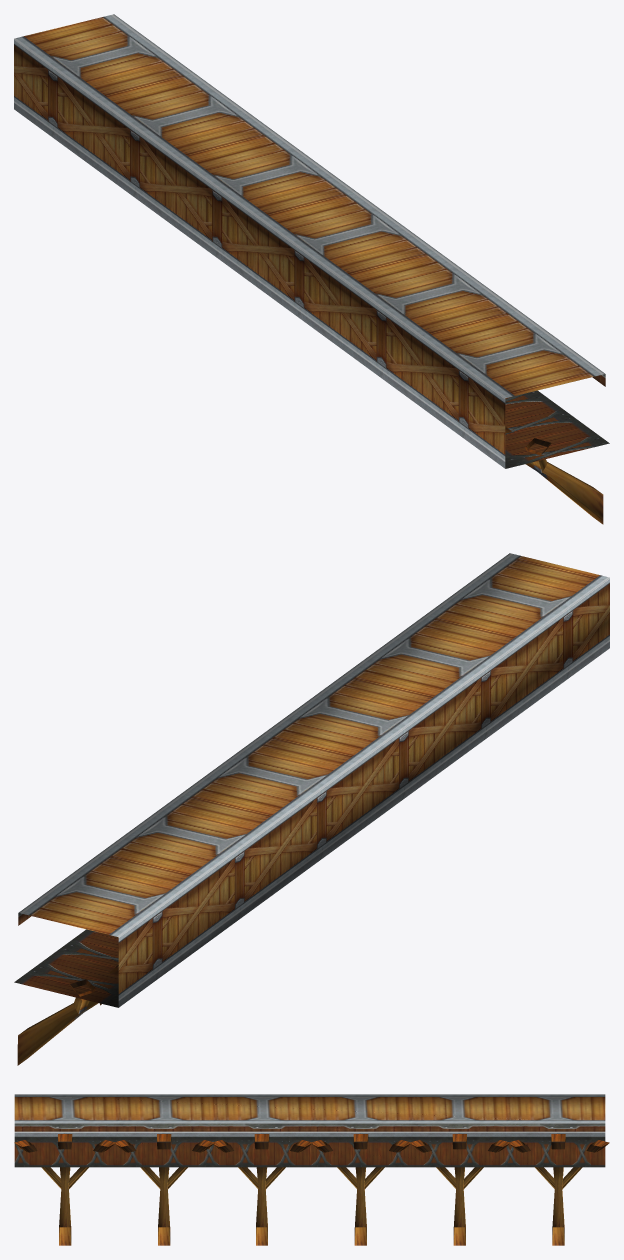
Rendered from obj_masaprwharf02.glb.
3 renders of one model, top to bottom at view 1: azimuth 30°, elevation 25°; view 2: azimuth 150°, elevation 25°; view 3: azimuth 270°, elevation 25°, orthographic. The views are drawn at different scales.
Parts seen in each view (by area): view 1: part_0; view 2: part_0; view 3: part_0.
Part boxes in pixels (left/top/right/bottom): part_0: left=14, top=14, right=609, bottom=524; part_0: left=14, top=553, right=609, bottom=1065; part_0: left=14, top=1094, right=609, bottom=1245.
Size of the model in its own units: 5.38 by 7.11 by 34.31.
Materials: 4 (4 with a texture image).
